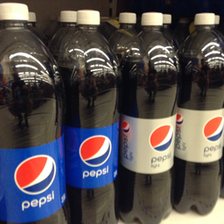soda: (1, 1, 67, 224), (58, 8, 122, 224), (119, 12, 177, 224), (175, 13, 222, 216)
